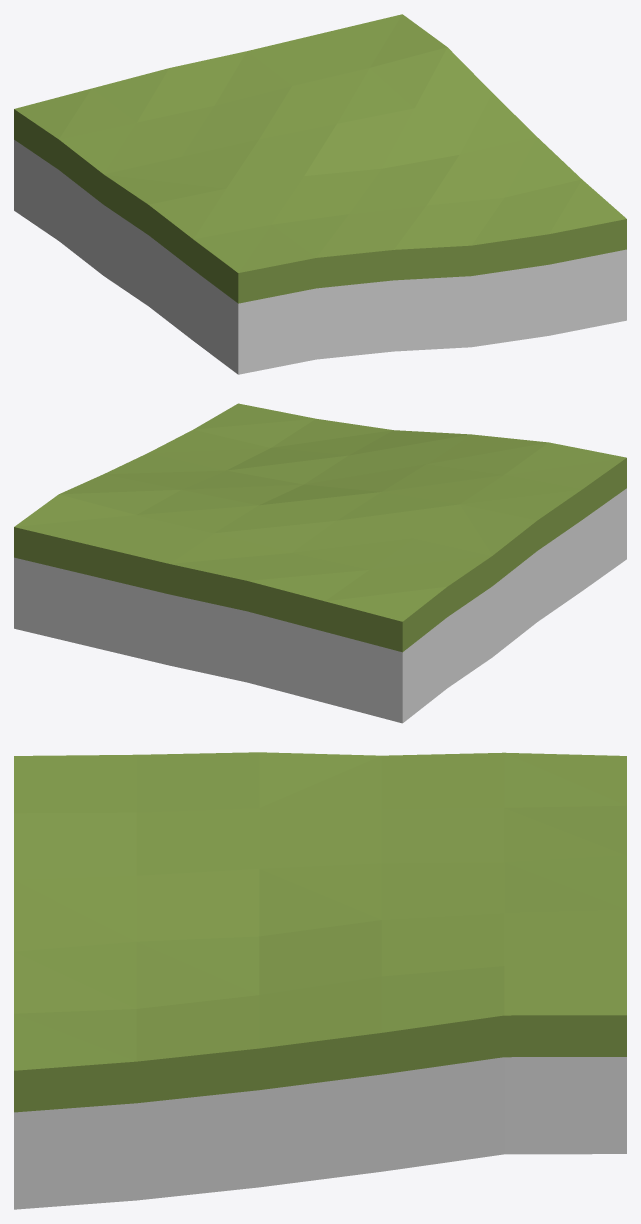
Rendered from terrain-world-valley_01-2.fbx.
3 views of the same model, one above another, from view 1: azimuth 30°, elevation 25°; view 2: azimuth 150°, elevation 25°; view 3: azimuth 270°, elevation 25° (orthographic). The views are drawn at different scales.
Parts seen in each view (by area): view 1: terrain-world-valley_01-2; view 2: terrain-world-valley_01-2; view 3: terrain-world-valley_01-2.
Part boxes in pixels (x1,y1,x2,y2): terrain-world-valley_01-2: [14, 14, 626, 374]; terrain-world-valley_01-2: [14, 403, 626, 723]; terrain-world-valley_01-2: [14, 752, 626, 1209].
Bounding box in the file's own units: 20.01 × 7.15 × 20.
